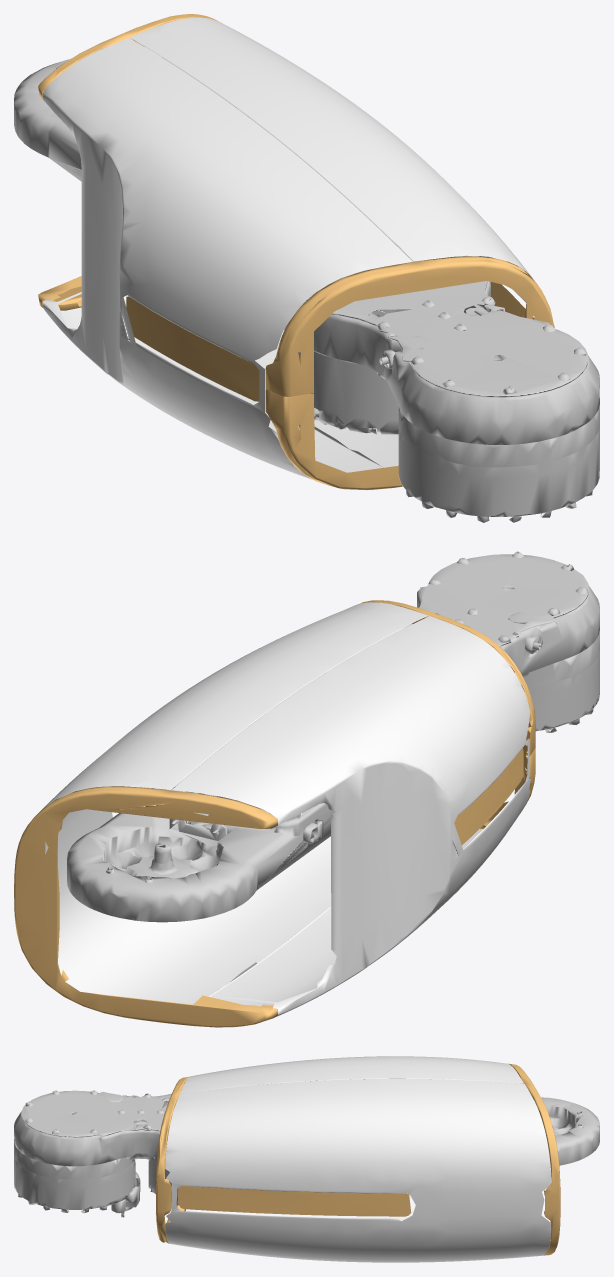
File: sim_ecub_l_lower_leg.obj
3 renders of one model, top to bottom at view 1: azimuth 30°, elevation 25°; view 2: azimuth 150°, elevation 25°; view 3: azimuth 270°, elevation 25°, orthographic. The views are drawn at different scales.
Size of the model in its own units: 153 by 126 by 408.
